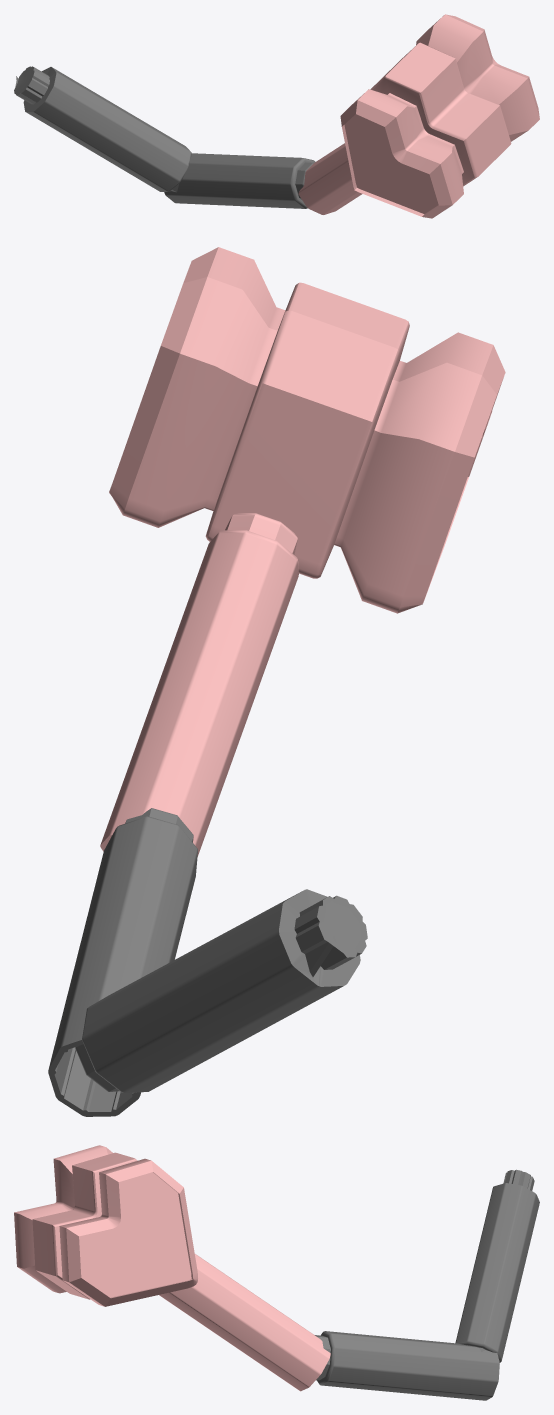
File: BrazoDer.obj
The picture shows the model from 3 angles, top to bottom: view 1: azimuth 30°, elevation 25°; view 2: azimuth 150°, elevation 25°; view 3: azimuth 270°, elevation 25°; orthographic projection. The views are drawn at different scales.
Parts seen in each view (by area): view 1: blinkobot_group2_blinkobot_group2_pCylinder1_blinkobot_polySurfa, blinkobot_group2_blinkobot_group2_pCylinder1_blinkobot_tangan_bl; view 2: blinkobot_group2_blinkobot_group2_pCylinder1_blinkobot_polySurfa, blinkobot_group2_blinkobot_group2_pCylinder1_blinkobot_tangan_bl; view 3: blinkobot_group2_blinkobot_group2_pCylinder1_blinkobot_tangan_bl, blinkobot_group2_blinkobot_group2_pCylinder1_blinkobot_polySurfa.
Boxes of the visible parts, x1=… form: blinkobot_group2_blinkobot_group2_pCylinder1_blinkobot_polySurfa: x1=340, y1=14, x2=539, y2=218; blinkobot_group2_blinkobot_group2_pCylinder1_blinkobot_tangan_bl: x1=14, y1=66, x2=362, y2=214; blinkobot_group2_blinkobot_group2_pCylinder1_blinkobot_polySurfa: x1=109, y1=247, x2=505, y2=613; blinkobot_group2_blinkobot_group2_pCylinder1_blinkobot_tangan_bl: x1=48, y1=513, x2=367, y2=1116; blinkobot_group2_blinkobot_group2_pCylinder1_blinkobot_tangan_bl: x1=159, y1=1169, x2=539, y2=1400; blinkobot_group2_blinkobot_group2_pCylinder1_blinkobot_polySurfa: x1=14, y1=1145, x2=197, y2=1306.
Size of the model in its own units: 0.1773 by 0.1509 by 0.2476.
Materials: 3 (2 with a texture image).
